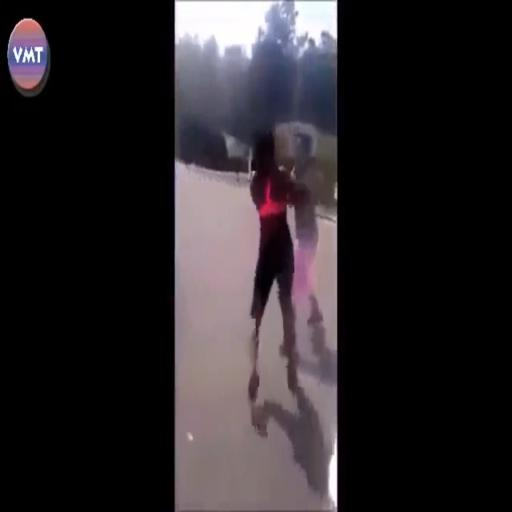violencia: (236, 110, 328, 412)
